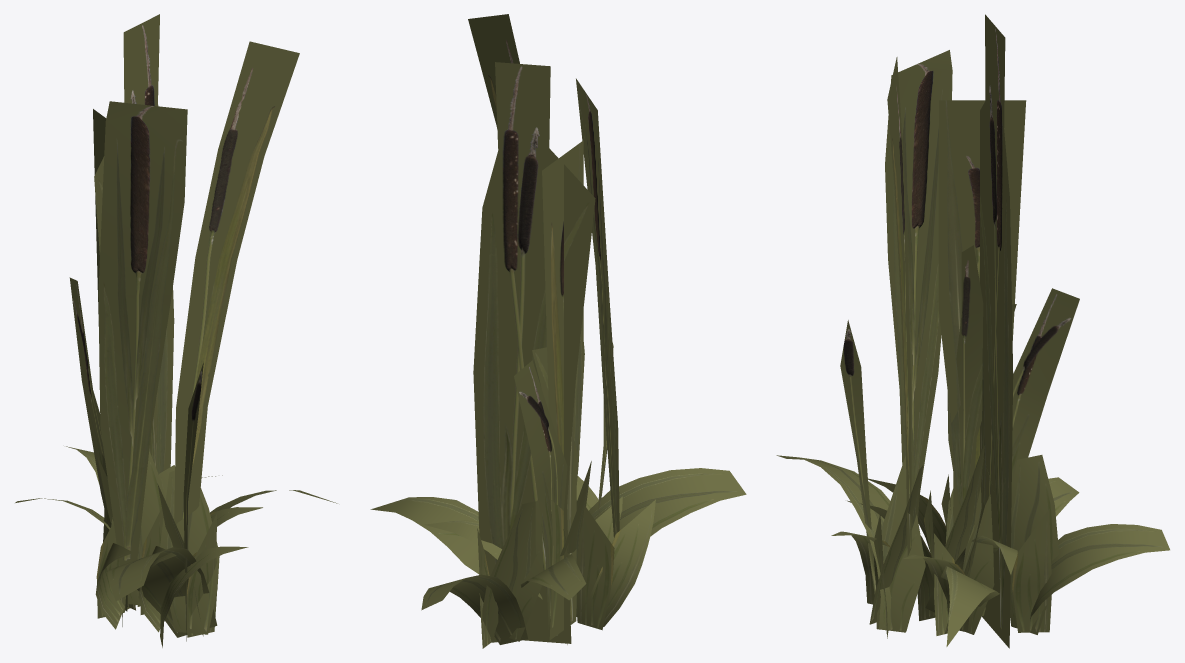
The model's file is SM_GrassPole_02.fbx.
3 views of the same model, side by side, from view 1: azimuth 30°, elevation 25°; view 2: azimuth 150°, elevation 25°; view 3: azimuth 270°, elevation 25° (orthographic). The views are drawn at different scales.
Parts seen in each view (by area): view 1: SM_GrassPole_02; view 2: SM_GrassPole_02; view 3: SM_GrassPole_02.
Boxes of the visible parts, <box> form: SM_GrassPole_02: <box>15,14,337,647</box>; SM_GrassPole_02: <box>370,14,746,648</box>; SM_GrassPole_02: <box>776,14,1169,648</box>.
Bounding box in the file's own units: 99.22 × 107 × 185.
1 material, 1 textured.
